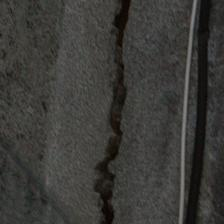Crack: (46, 2, 93, 215)
